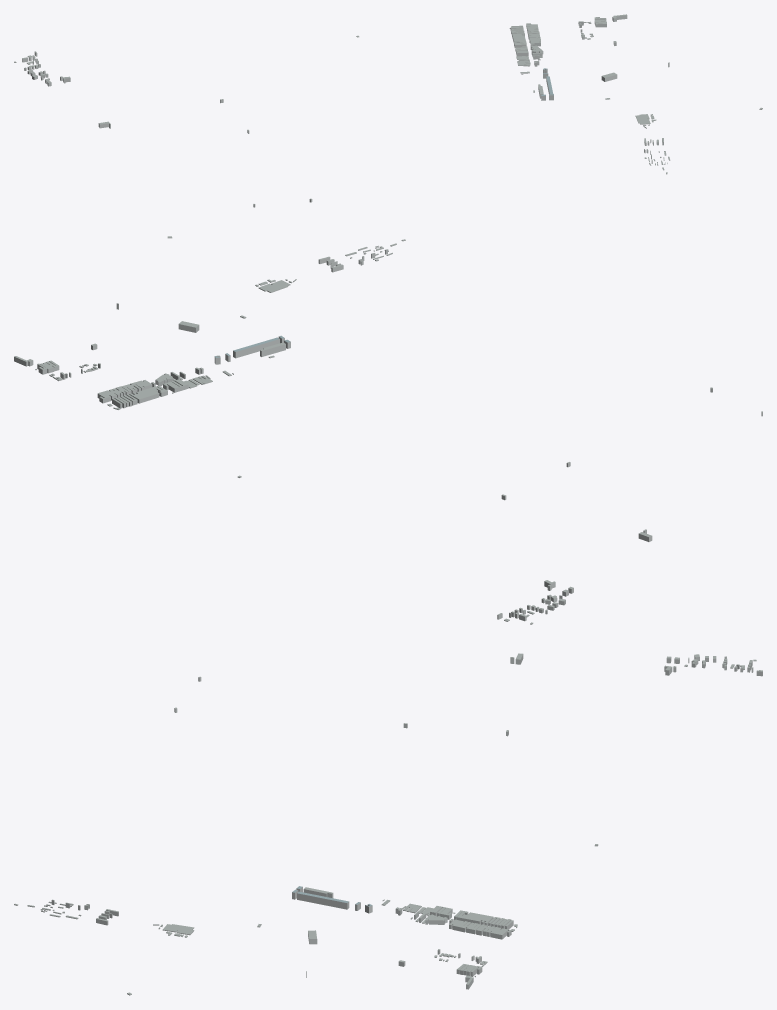
Rendered from far.glb.
3 renders of one model, top to bottom at view 1: azimuth 30°, elevation 25°; view 2: azimuth 150°, elevation 25°; view 3: azimuth 270°, elevation 25°, orthographic. The views are drawn at different scales.
Size of the model in its own units: 2094 by 19.9 by 1966.
